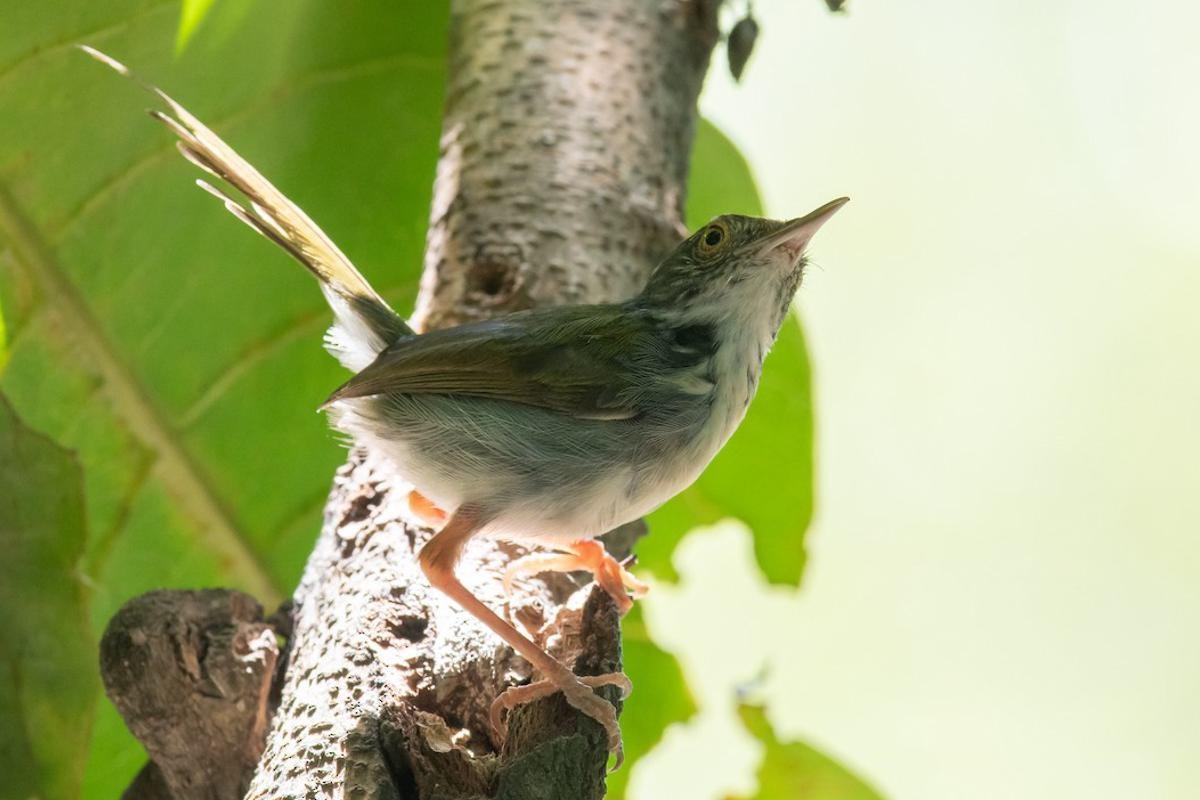tailorbird: (255, 144, 883, 634)
